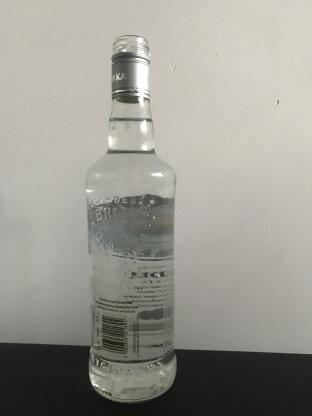nakretka: (109, 32, 152, 104)
